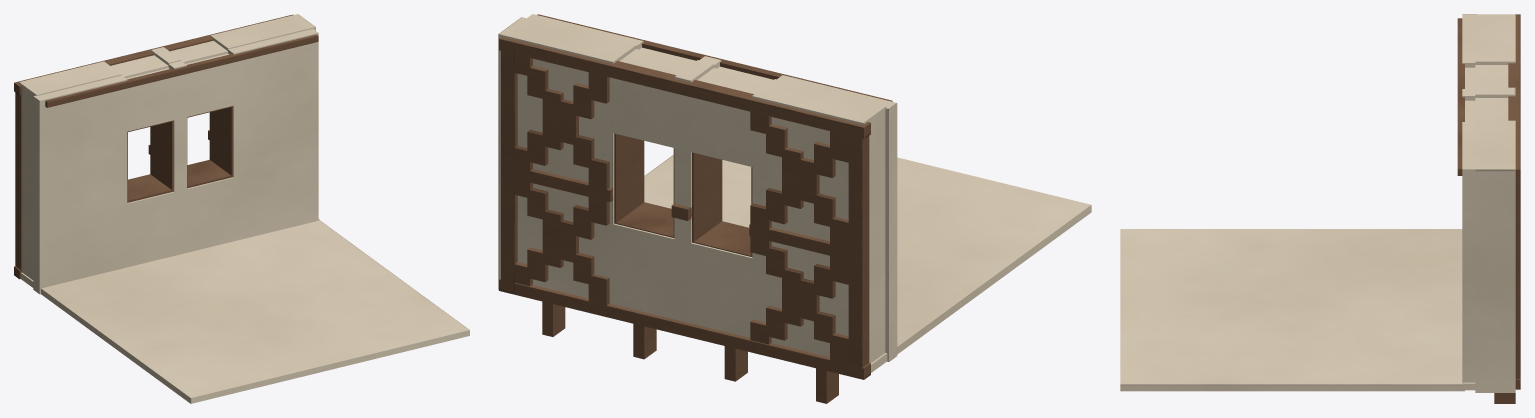
Rendered from med_window_b_jetty.glb.
The picture shows the model from 3 angles, left to right: view 1: azimuth 30°, elevation 25°; view 2: azimuth 150°, elevation 25°; view 3: azimuth 270°, elevation 25°; orthographic projection. The views are drawn at different scales.
Visible parts, largest first — view 1: med_window_b_jetty; view 2: med_window_b_jetty; view 3: med_window_b_jetty.
Boxes of the visible parts, <box> form: med_window_b_jetty: <box>14,14,469,403</box>; med_window_b_jetty: <box>498,14,1091,403</box>; med_window_b_jetty: <box>1120,14,1520,403</box>.
Size of the model in its own units: 4.04 by 3.04 by 4.36.
Materials: 1 (1 with a texture image).
